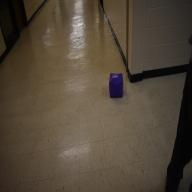cube: (108, 72, 124, 98)
